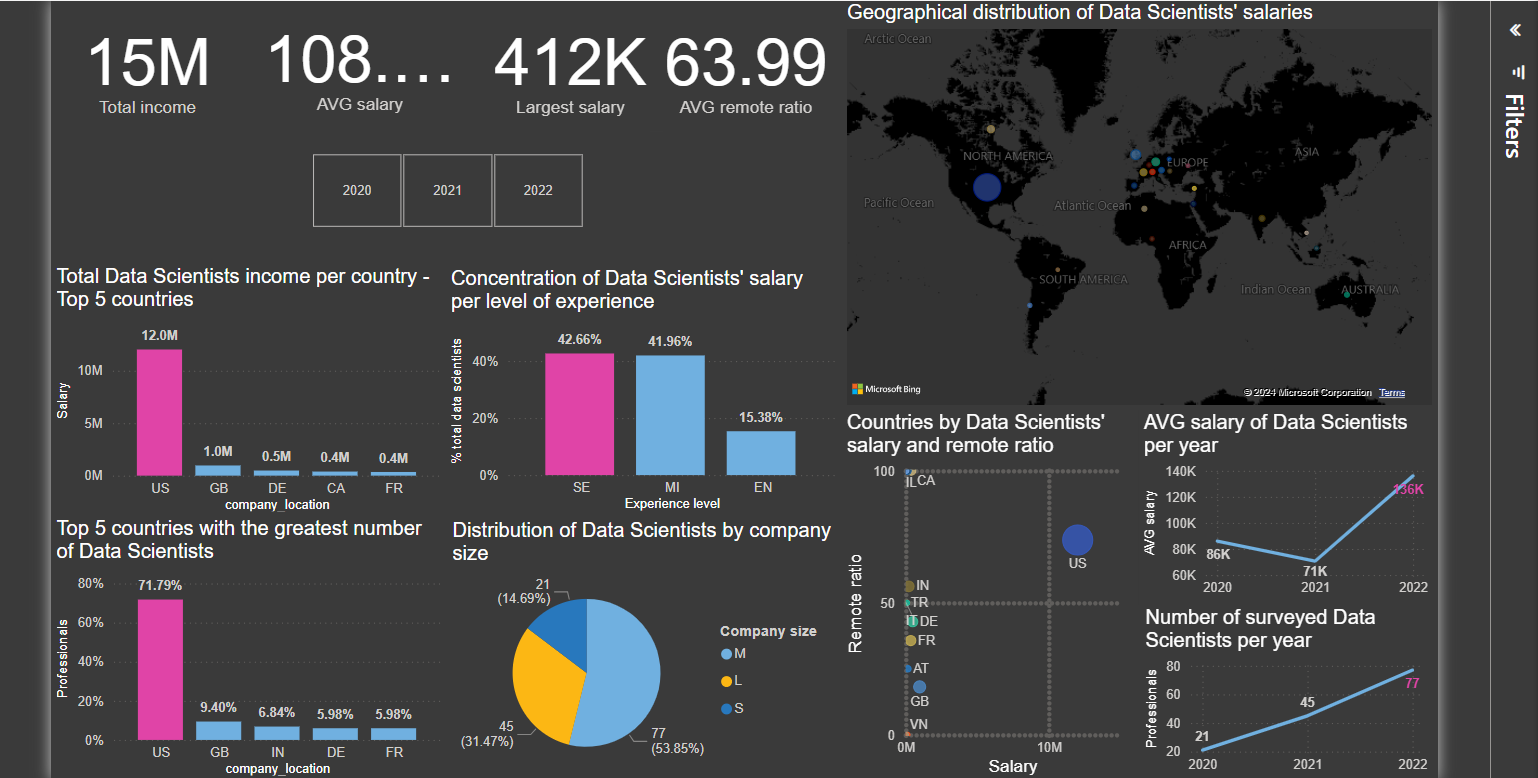

This screenshot's page, from the dashboard's own definition file:
{"tool":"powerbi","page":{"name":"Data Scientists","canvas":[1280,720],"ordinal":1},"visuals":[{"type":"clusteredColumnChart","title":"Concentration of Data Scientists'' salary per level of experience","fields":{"Category":["ds_salaries.experience_level"],"Y":["CountNonNull(ds_salaries.job_title)"]},"box":[364.7,245.7,364.7,230.6],"z":0},{"type":"clusteredColumnChart","title":"Total Data Scientists income per country - Top 5 countries","fields":{"Y":["Sum(ds_salaries.salary_in_usd)"],"Category":["ds_salaries.company_location"]},"box":[0,243.8,364.7,232.4],"z":1000},{"type":"map","title":"Geographical distribution of Data Scientists'' salaries","fields":{"Category":["ds_salaries.company_location"],"Size":["Sum(ds_salaries.salary_in_usd)"],"Series":["ds_salaries.company_location"]},"box":[729.5,0,549.9,378],"z":2000},{"type":"card","fields":{"Values":["Sum(ds_salaries.salary_in_usd)"]},"box":[0,0,177.6,120.9],"z":3000},{"type":"card","fields":{"Values":["Avg(ds_salaries.remote_ratio)"]},"box":[551.8,0,177.6,120.9],"z":4000},{"type":"card","fields":{"Values":["Max(ds_salaries.salary_in_usd)"]},"box":[393.1,0,172,120.9],"z":5000},{"type":"lineChart","title":"AVG salary of Data Scientists per year","fields":{"Category":["ds_salaries.work_year"],"Y":["Avg(ds_salaries.salary_in_usd)"]},"box":[1003.5,378,272.1,179.5],"z":6000},{"type":"slicer","fields":{"Values":["ds_salaries.work_year"]},"box":[215.4,134.2,298.6,81.3],"z":7000},{"type":"clusteredColumnChart","title":"Top 5 countries with the greatest number of Data Scientists","fields":{"Category":["ds_salaries.company_location"],"Y":["CountNonNull(ds_salaries.job_title)"]},"box":[0,476.2,364.7,243.8],"z":8000},{"type":"pieChart","title":"Distribution of Data Scientists by company size","fields":{"Category":["ds_salaries.company_size"],"Y":["CountNonNull(ds_salaries.job_title)"]},"box":[365,477,364,243],"z":9000},{"type":"lineChart","title":"Number of surveyed Data Scientists per year","fields":{"Category":["ds_salaries.work_year"],"Y":["CountNonNull(ds_salaries.job_title)"]},"box":[1005.4,557.5,270.2,162.5],"z":10000},{"type":"card","fields":{"Values":["Avg(ds_salaries.salary_in_usd)"]},"box":[177.6,0,215.4,115.3],"z":11000},{"type":"scatterChart","title":"Countries by Data Scientists'' salary and remote ratio","fields":{"X":["Sum(ds_salaries.salary_in_usd)"],"Y":["Avg(ds_salaries.remote_ratio)"],"Series":["ds_salaries.company_location"],"Size":["CountNonNull(ds_salaries.job_title)"]},"box":[729.5,378,274,342],"z":12000}]}

Visuals, with their boxes on the page's 1280x720 design canvas (x1, y1, x2, y2). These are canvas units, not pixel positions in the 1538x778 screenshot, which may show the page scaled, cropped or inside an application window:
"Concentration of Data Scientists'' salary per level of experience" clusteredColumnChart: (x1=365, y1=246, x2=729, y2=476)
"Total Data Scientists income per country - Top 5 countries" clusteredColumnChart: (x1=0, y1=244, x2=365, y2=476)
"Geographical distribution of Data Scientists'' salaries" map: (x1=730, y1=0, x2=1279, y2=378)
card - Sum(ds_salaries.salary_in_usd): (x1=0, y1=0, x2=178, y2=121)
card - Avg(ds_salaries.remote_ratio): (x1=552, y1=0, x2=729, y2=121)
card - Max(ds_salaries.salary_in_usd): (x1=393, y1=0, x2=565, y2=121)
"AVG salary of Data Scientists per year" lineChart: (x1=1004, y1=378, x2=1276, y2=558)
slicer - ds_salaries.work_year: (x1=215, y1=134, x2=514, y2=216)
"Top 5 countries with the greatest number of Data Scientists" clusteredColumnChart: (x1=0, y1=476, x2=365, y2=720)
"Distribution of Data Scientists by company size" pieChart: (x1=365, y1=477, x2=729, y2=720)
"Number of surveyed Data Scientists per year" lineChart: (x1=1005, y1=558, x2=1276, y2=720)
card - Avg(ds_salaries.salary_in_usd): (x1=178, y1=0, x2=393, y2=115)
"Countries by Data Scientists'' salary and remote ratio" scatterChart: (x1=730, y1=378, x2=1004, y2=720)
